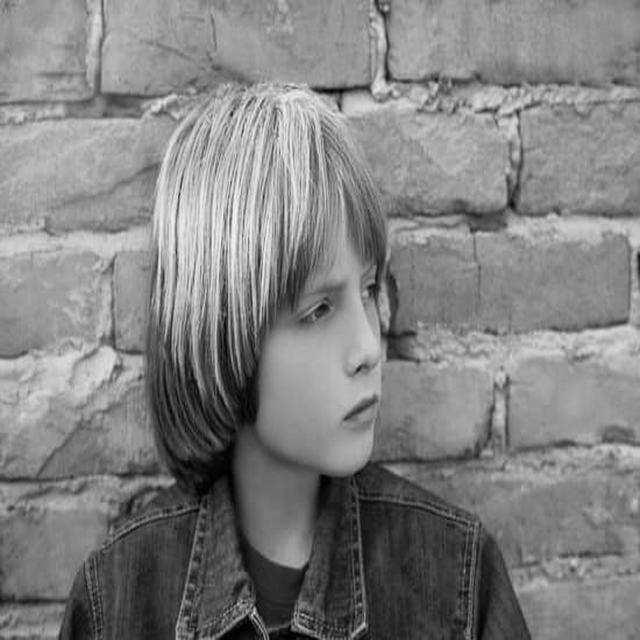Sadness: (268, 228, 381, 476)
